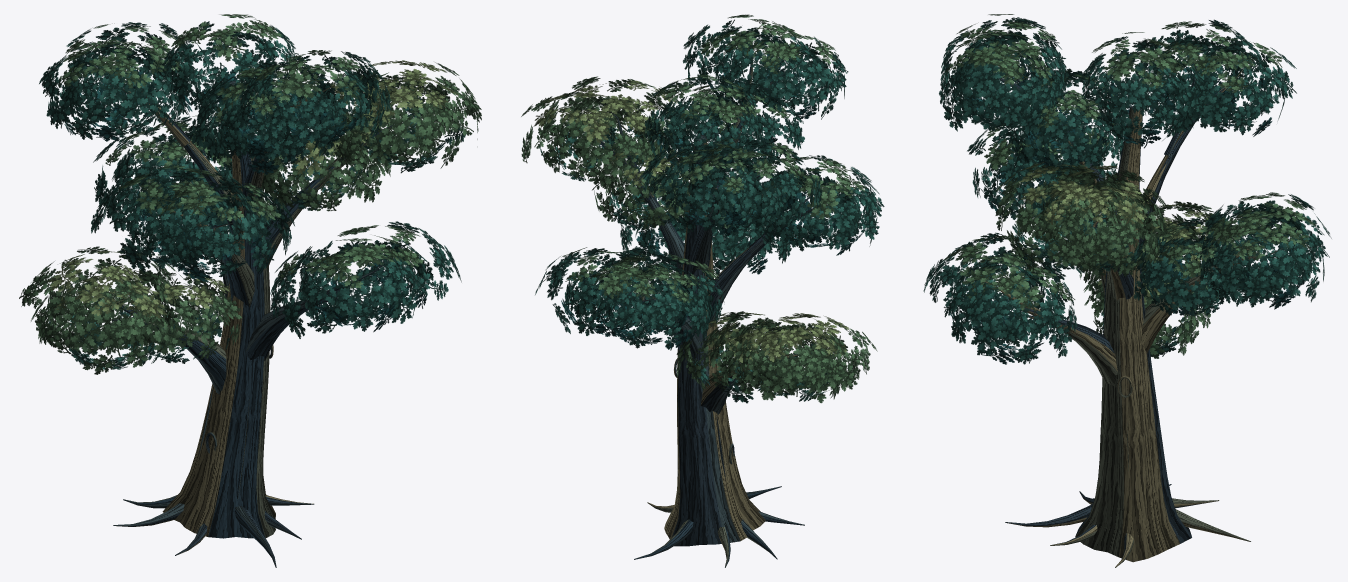
File: ancient_oak.glb
The picture shows the model from 3 angles, left to right: view 1: azimuth 30°, elevation 25°; view 2: azimuth 150°, elevation 25°; view 3: azimuth 270°, elevation 25°; orthographic projection. The views are drawn at different scales.
Parts seen in each view (by area): view 1: ancient_oak; view 2: ancient_oak; view 3: ancient_oak.
Boxes of the visible parts, left/top/right/bottom form: ancient_oak: left=19, top=14, right=481, bottom=567; ancient_oak: left=521, top=14, right=884, bottom=567; ancient_oak: left=923, top=14, right=1331, bottom=567.
Size of the model in its own units: 12.36 by 14.82 by 10.92.
Materials: 2 (2 with a texture image).
